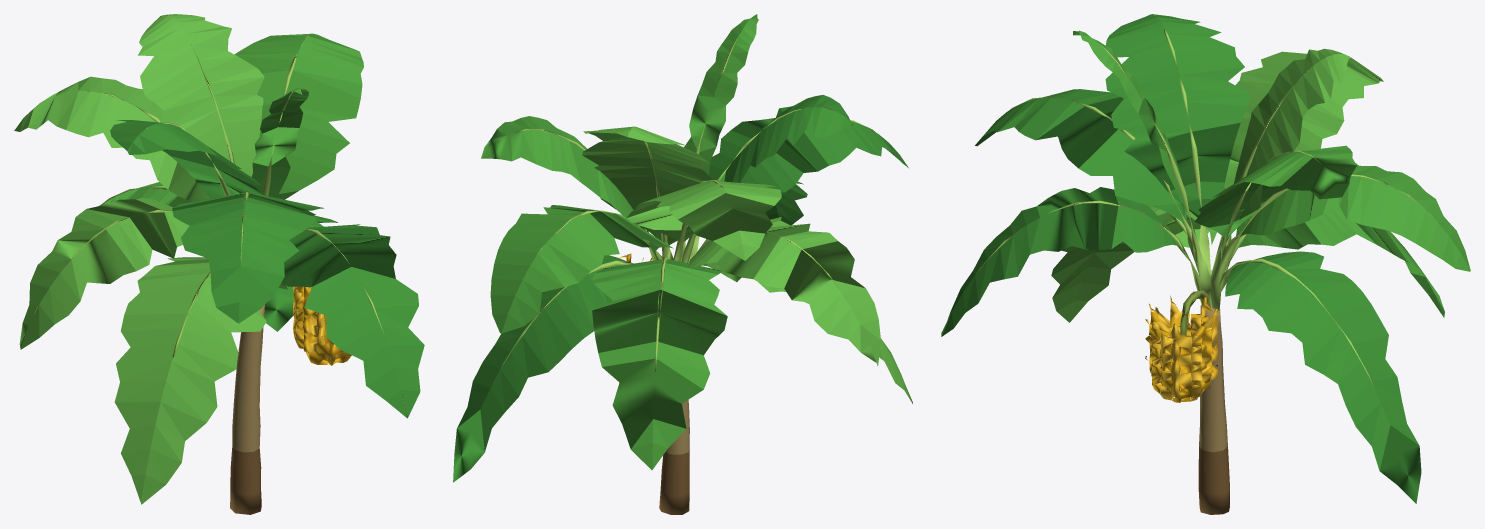
3 renders of one model, left to right at view 1: azimuth 30°, elevation 25°; view 2: azimuth 150°, elevation 25°; view 3: azimuth 270°, elevation 25°, orthographic. The views are drawn at different scales.
Visible parts, largest first — view 1: body; view 2: body; view 3: body.
Boxes of the visible parts, x1,y1,x2,y2 form: body: [14, 14, 424, 514]; body: [453, 14, 912, 514]; body: [941, 14, 1470, 514].
Bounding box in the file's own units: 5.35 × 6.57 × 6.7.
Materials: 1 (1 with a texture image).
